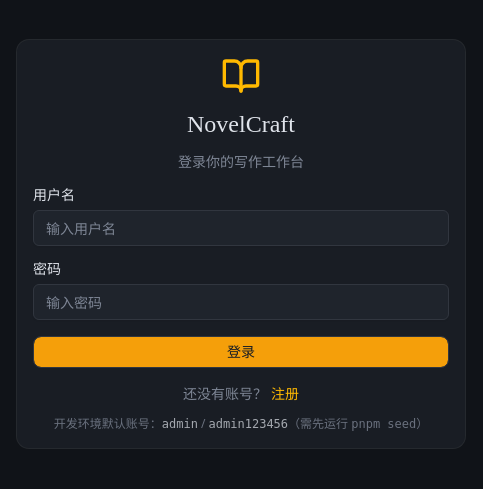
Test: LoginPage › switches to register mode on toggle click
This screenshot has width=483, height=489.
Click the button "注册" at (285,394), box 271,384 -> 299,404
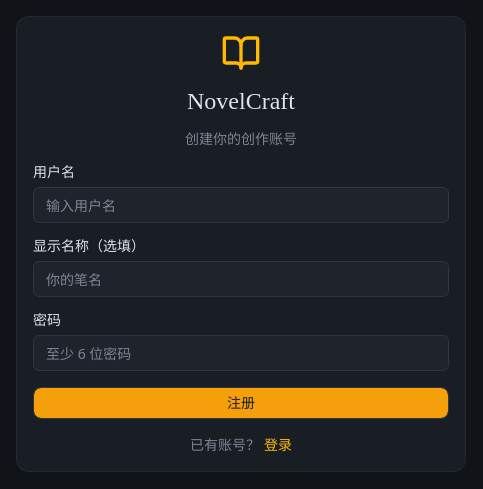
expect the text "创建你的创作账号" is shown: met, box 185,129 -> 297,148
expect the field labelled "显示名称（选填）" is shown: met, box 33,261 -> 449,297
expect the text "已有账号？ 登录" is shown: met, box 190,435 -> 292,455
